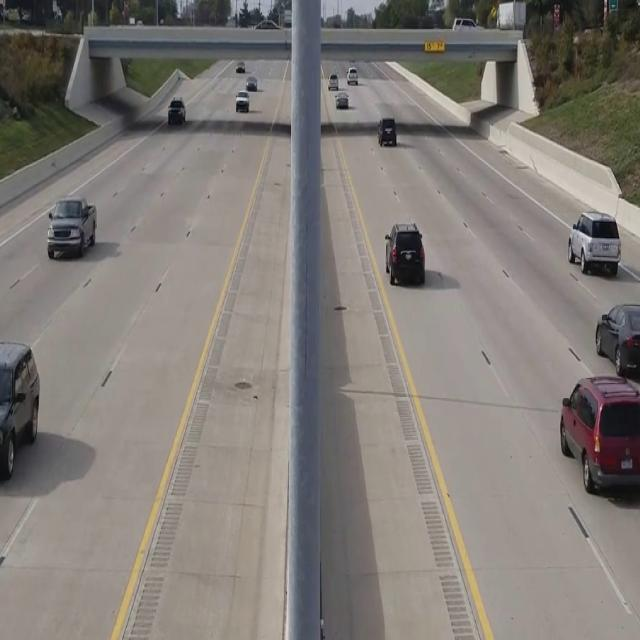car: (559, 374, 640, 495), (0, 340, 40, 481), (567, 210, 621, 276), (595, 302, 640, 380), (46, 197, 96, 260), (384, 222, 424, 284), (378, 116, 396, 145), (168, 97, 185, 125), (236, 92, 248, 112)
